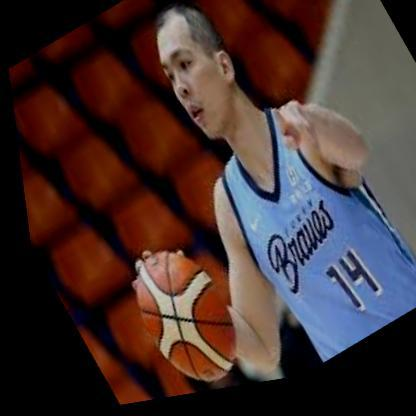basketball: (107, 234, 246, 406)
